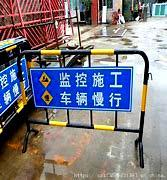sign: (30, 69, 130, 110)
